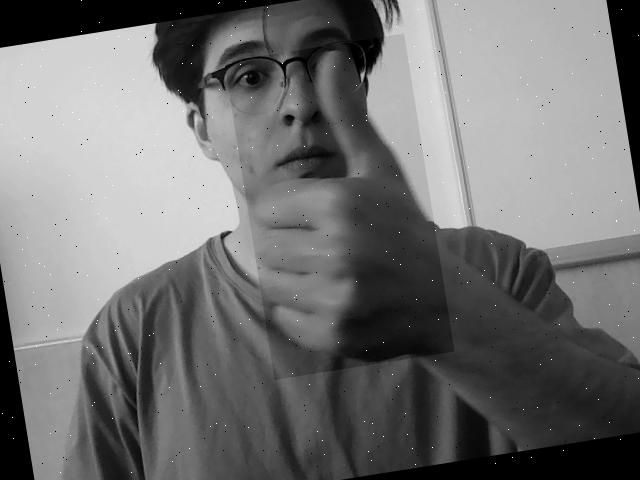good: (251, 47, 435, 361)
